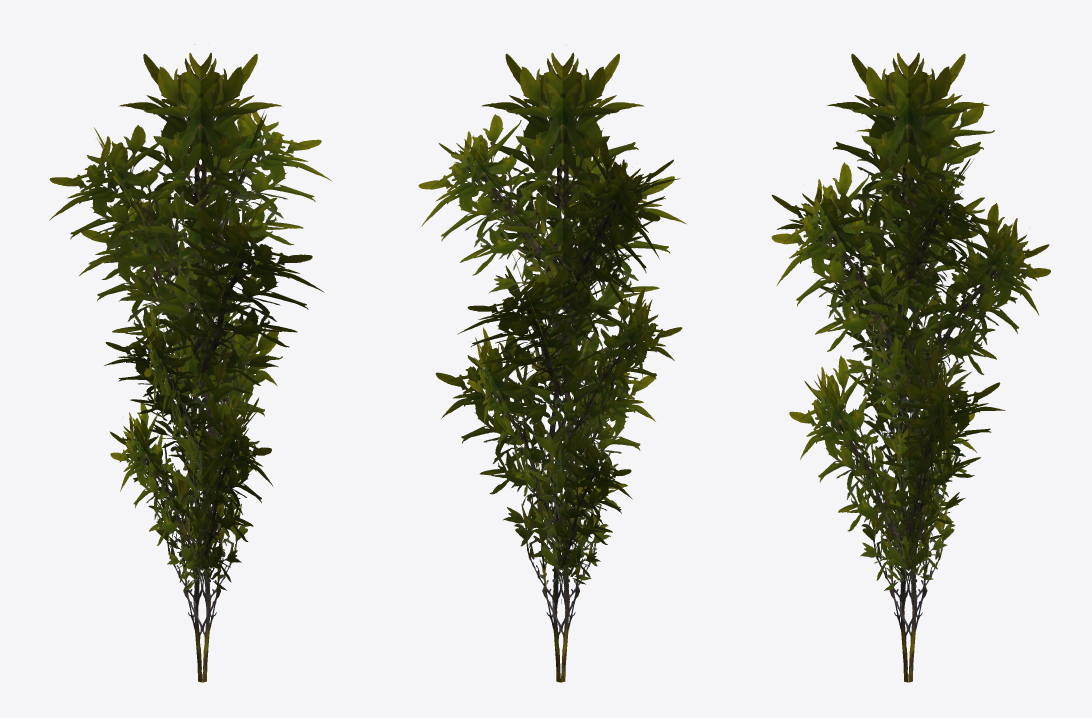
The model's file is mato_c.glb.
The picture shows the model from 3 angles, left to right: view 1: azimuth 30°, elevation 25°; view 2: azimuth 150°, elevation 25°; view 3: azimuth 270°, elevation 25°; orthographic projection.
Visible parts, largest first — view 1: mato_c; view 2: mato_c; view 3: mato_c.
Boxes of the visible parts, x1,y1,x2,y2 form: mato_c: (49, 52, 332, 682); mato_c: (418, 52, 685, 682); mato_c: (771, 52, 1050, 682).
Bounding box in the file's own units: 0.6385 × 1.28 × 0.6122.
1 material, 1 textured.
